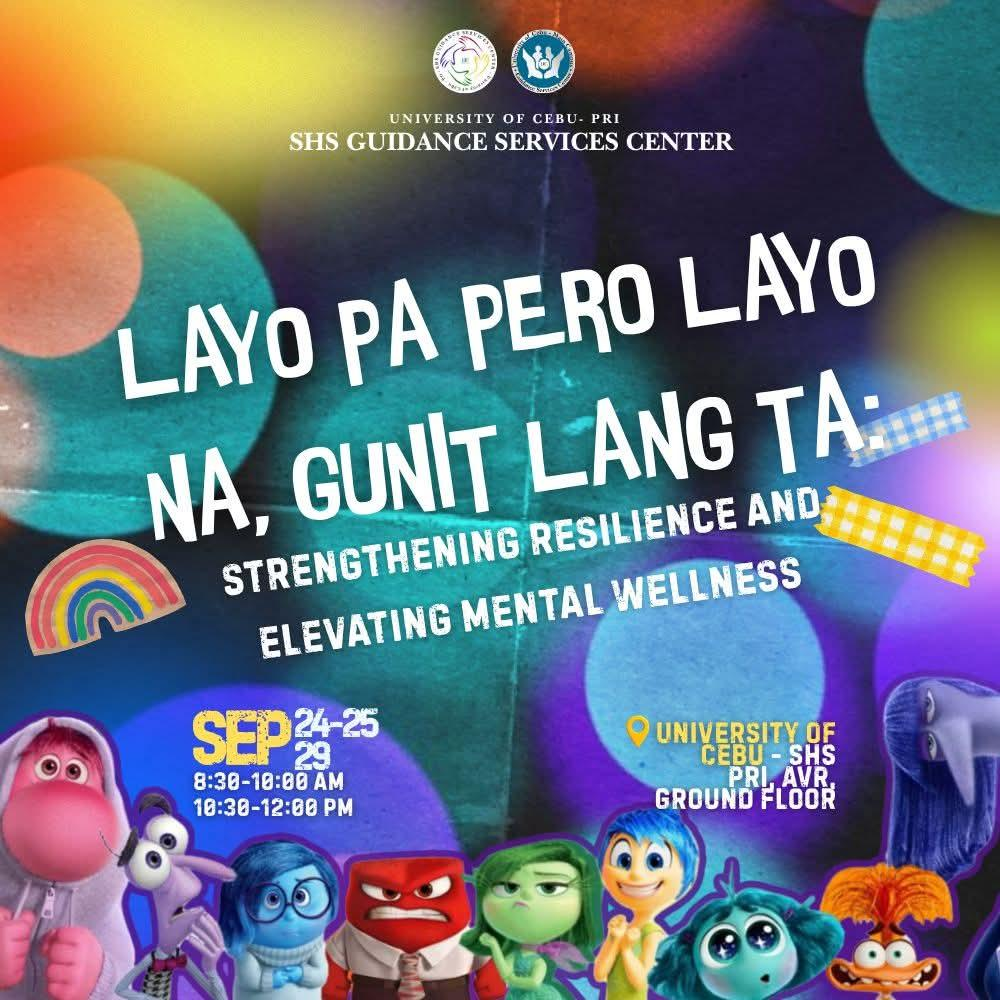embellishment: (0, 665, 999, 999), (26, 539, 187, 654), (622, 708, 652, 750)
logo: (506, 25, 580, 97), (428, 25, 502, 96)
text: (104, 199, 897, 427), (136, 346, 897, 557), (212, 478, 836, 610), (251, 546, 814, 671), (187, 699, 387, 824), (648, 709, 846, 820), (286, 110, 739, 157)
